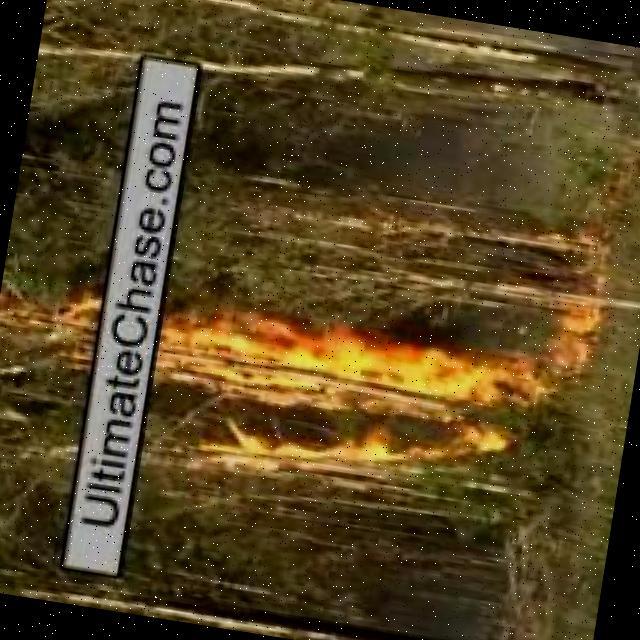fire: (142, 301, 538, 516), (0, 278, 109, 371), (544, 296, 596, 396)
